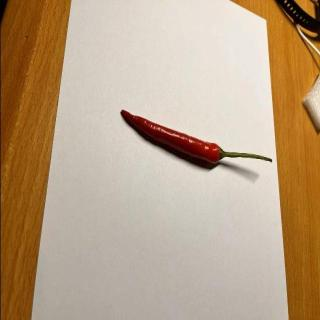Cabai Merah: (121, 110, 273, 165)
